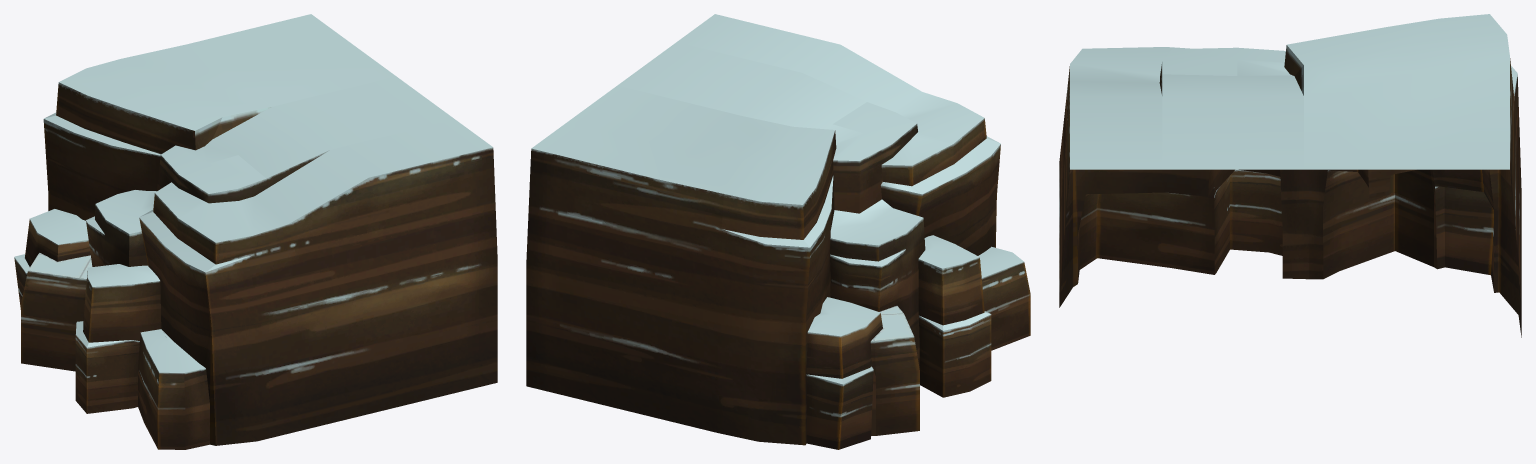
Rendered from Arctic_Rock.fbx.
The picture shows the model from 3 angles, left to right: view 1: azimuth 30°, elevation 25°; view 2: azimuth 150°, elevation 25°; view 3: azimuth 270°, elevation 25°; orthographic projection. The views are drawn at different scales.
Visible parts, largest first — view 1: Arctic_Rock; view 2: Arctic_Rock; view 3: Arctic_Rock.
Part boxes in pixels (box(x1,y1,x2,y2)): Arctic_Rock: box(14, 14, 497, 449); Arctic_Rock: box(526, 14, 1030, 449); Arctic_Rock: box(1059, 14, 1521, 337).
Bounding box in the file's own units: 6.06 × 4.06 × 5.9.
